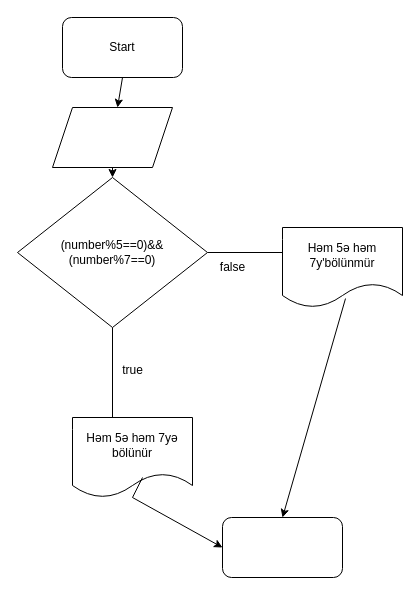
Some shapes in this 420 by 595 pixel diagram are drawn without their labels. Here are the shapes that lost their labels. From the top down, the centre of each, then its label:
At point (112, 137): "number".
At point (282, 547): "End".
